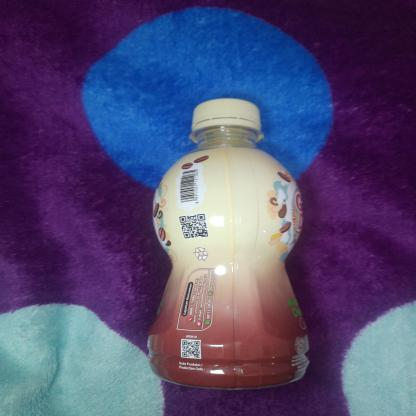bottle: (141, 93, 312, 393)
